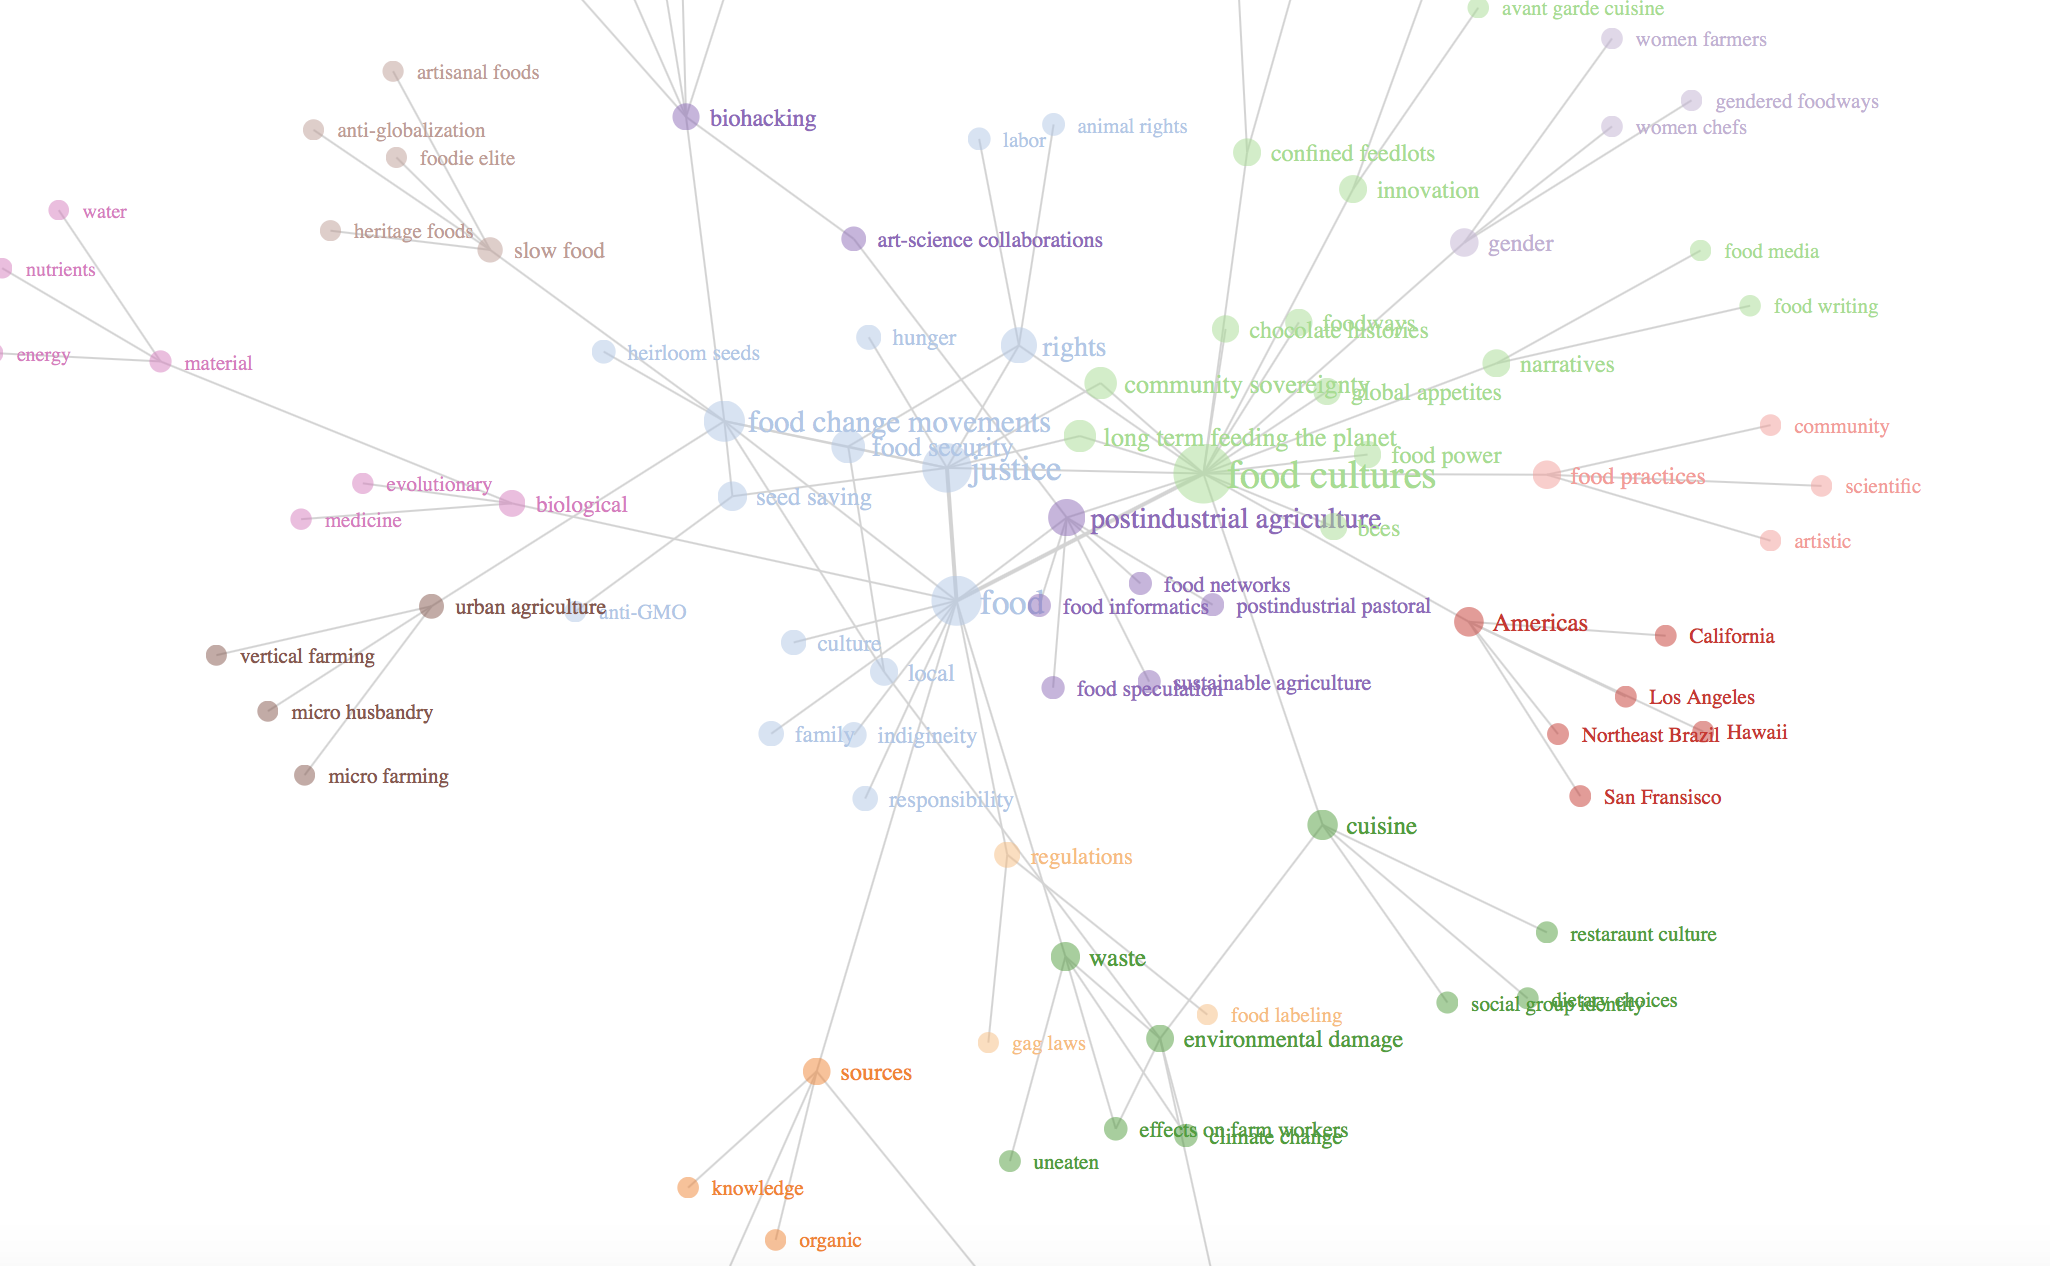

This screenshot's page, from the dashboard's own definition file:
{"tool":"tableau","page":{"name":"Dashboard 1","canvas":[1000,800],"ordinal":0},"visuals":[{"type":"worksheet","title":"Sheet 1","mark":"Automatic","box":[0,0,996,800]},{"type":"text","box":[14,65,333,71]},{"type":"legend","title":"Sheet 1","param":"[federated.1w2wvfg0jltd801gswrae07321r3].[usr:Calculation_568016523094884354:nk]","box":[781,527,207,109]}]}

Visuals, with their boxes on the page's 1000x800 design canvas (x1, y1, x2, y2). These are canvas units, not pixel positions in the 2050x1266 screenshot, which may show the page scaled, cropped or inside an application window:
"Sheet 1" worksheet: crop(0, 0, 996, 800)
text: crop(14, 65, 347, 136)
"Sheet 1" legend: crop(781, 527, 988, 636)
